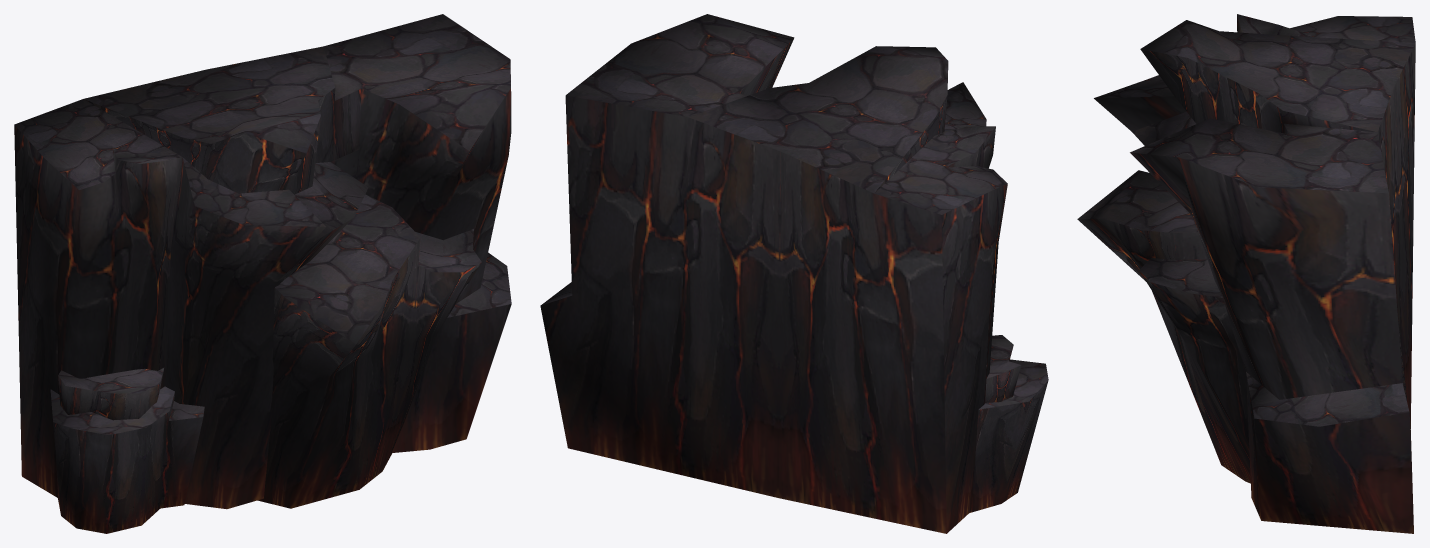
Rendered from temple_side01.FBX.
The picture shows the model from 3 angles, left to right: view 1: azimuth 30°, elevation 25°; view 2: azimuth 150°, elevation 25°; view 3: azimuth 270°, elevation 25°; orthographic projection. The views are drawn at different scales.
Visible parts, largest first — view 1: temple_side01; view 2: temple_side01; view 3: temple_side01.
Part boxes in pixels (left/top/right/bottom): temple_side01: left=14, top=14, right=511, bottom=533; temple_side01: left=540, top=14, right=1048, bottom=533; temple_side01: left=1077, top=14, right=1415, bottom=533.
Bounding box in the file's own units: 880 × 718 × 574.
